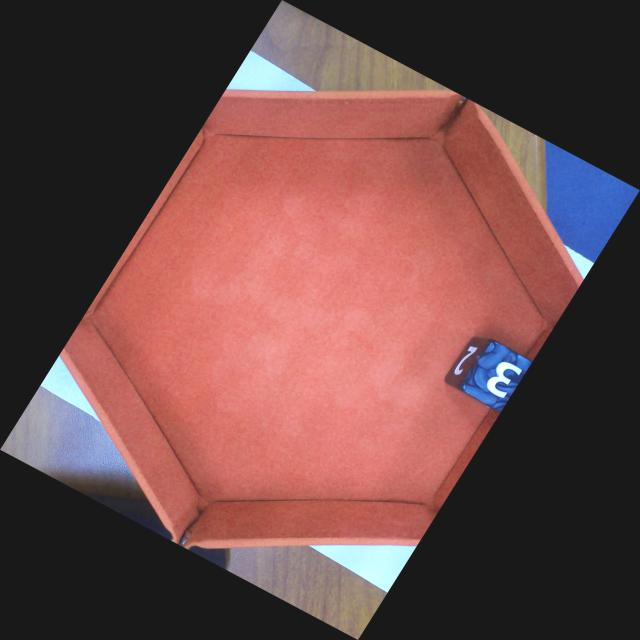dice: (460, 339, 532, 412)
